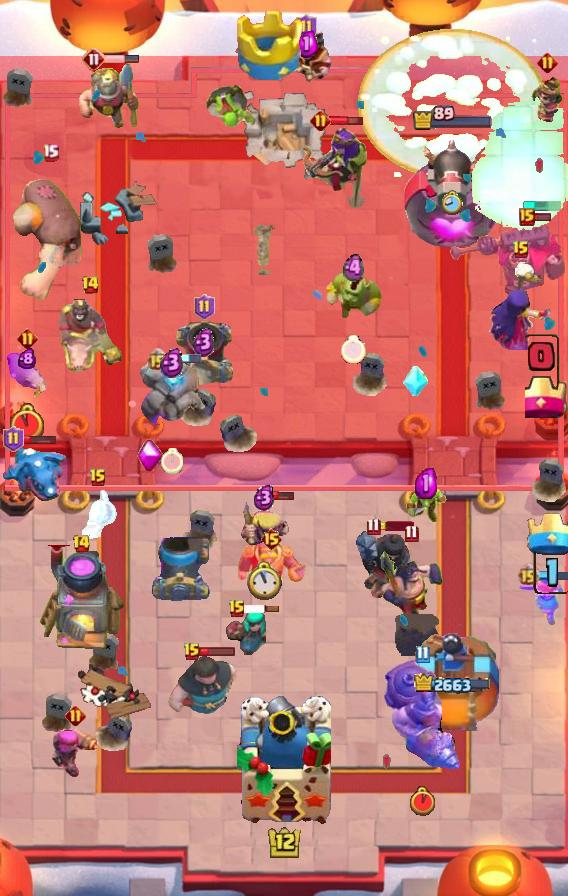bar: (329, 114, 364, 127), (166, 353, 202, 365), (260, 490, 295, 502), (22, 433, 57, 445), (199, 646, 236, 657), (537, 569, 568, 581), (244, 604, 280, 614), (378, 521, 414, 531), (104, 54, 140, 64), (533, 212, 552, 222)
bar-level: (82, 47, 106, 71), (260, 527, 283, 551), (3, 426, 24, 452), (194, 294, 215, 320), (296, 14, 317, 40), (517, 563, 540, 586), (146, 348, 169, 371), (65, 705, 86, 726), (17, 328, 38, 349), (310, 110, 331, 131), (537, 52, 558, 73), (72, 534, 91, 554), (81, 275, 100, 295), (183, 642, 201, 662), (228, 599, 246, 619), (89, 468, 107, 488), (512, 240, 530, 260), (42, 143, 59, 162), (519, 208, 535, 226), (415, 645, 430, 664), (404, 524, 419, 543), (366, 517, 381, 536)
barbarian-evolution: (238, 501, 290, 551)
bomb: (395, 614, 439, 656)
cannoneer-tower: (400, 132, 507, 256)
clock: (247, 561, 282, 601), (10, 403, 44, 444), (410, 786, 435, 816), (341, 335, 366, 364), (161, 448, 183, 474), (442, 190, 463, 216)
dirt: (250, 223, 276, 275)
electro-dragon: (0, 444, 68, 504)
electro-wizard: (280, 31, 332, 85)
elixir: (160, 347, 184, 378), (415, 468, 437, 499), (193, 327, 215, 357), (343, 253, 364, 284), (295, 30, 318, 58), (253, 484, 275, 511), (18, 348, 36, 369)
evolution-symbol: (137, 439, 163, 473)
executioner: (377, 548, 445, 624)
firecracker: (50, 726, 100, 780)
goblin: (405, 486, 447, 526)
goblin-ball: (204, 83, 258, 131)
goblin-brawler: (324, 269, 382, 323)
golemite: (137, 357, 207, 425)
hog: (1, 351, 53, 401)
ice-spirit: (77, 489, 119, 541)
ice-spirit-evolution-symbol: (402, 366, 428, 398)
king-tower: (237, 696, 331, 826)
knight: (237, 541, 306, 598)
little-prince: (528, 76, 566, 132)
miner: (77, 63, 143, 131)
mortar: (172, 320, 236, 386), (150, 537, 210, 601)
queen-tower: (407, 633, 499, 731)
rascal-girl: (225, 609, 269, 655)
tower-bar: (412, 105, 494, 131), (414, 673, 492, 696)
valkyrie: (517, 573, 565, 627)
witch: (489, 262, 553, 350)
